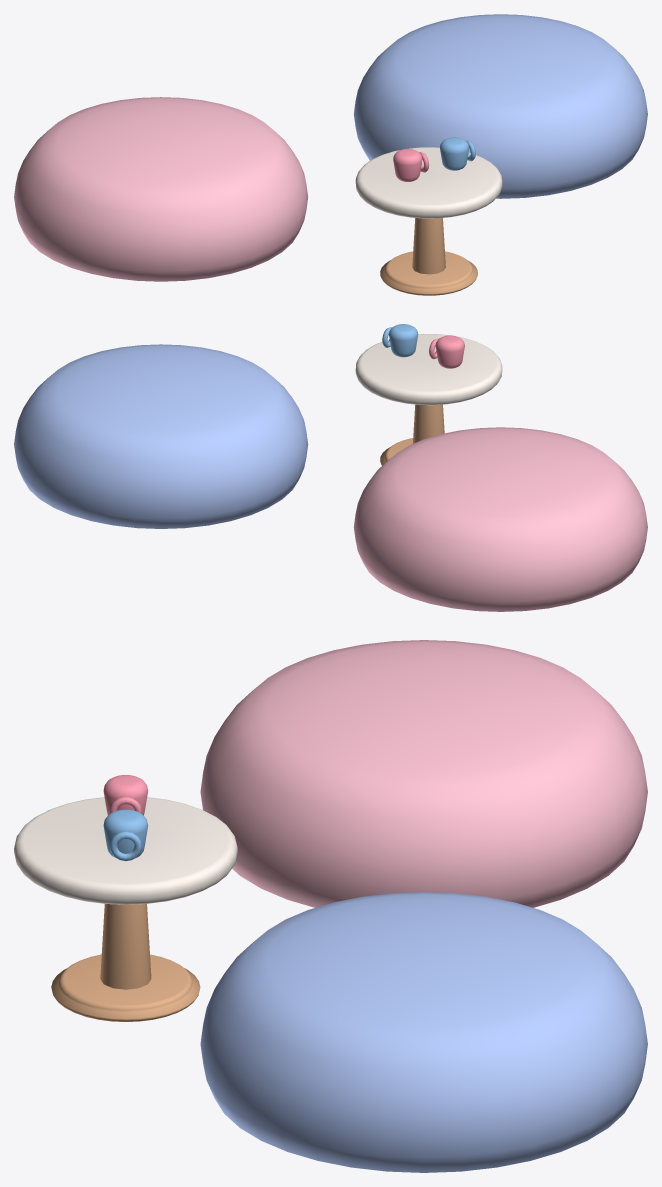
Rendered from beanbags.glb.
3 renders of one model, top to bottom at view 1: azimuth 30°, elevation 25°; view 2: azimuth 150°, elevation 25°; view 3: azimuth 270°, elevation 25°, orthographic. The views are drawn at different scales.
Parts seen in each view (by area): view 1: bag_0, bag_1, table, ce2b088, c8fc1f0, cff9fb5; view 2: bag_1, bag_0, table, ce2b088, cff9fb5, c8fc1f0; view 3: bag_1, bag_0, table, ce2b088, c8fc1f0, cff9fb5.
Part boxes in pixels (<box>): bag_0: <box>14,97,308,281</box>; bag_1: <box>353,14,647,198</box>; table: <box>355,147,502,218</box>; ce2b088: <box>380,218,477,295</box>; c8fc1f0: <box>440,137,475,170</box>; cff9fb5: <box>393,148,429,181</box>; bag_1: <box>14,344,308,528</box>; bag_0: <box>353,427,647,611</box>; table: <box>355,334,502,405</box>; ce2b088: <box>380,404,444,465</box>; cff9fb5: <box>429,335,464,368</box>; c8fc1f0: <box>382,324,418,357</box>; bag_1: <box>200,892,647,1172</box>; bag_0: <box>200,640,647,907</box>; table: <box>14,797,237,904</box>; ce2b088: <box>51,904,200,1021</box>; c8fc1f0: <box>103,809,148,861</box>; cff9fb5: <box>103,775,148,815</box>.
Size of the model in its own units: 2.8 by 0.58 by 1.7.
